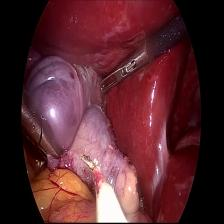Grasper: (97, 42, 154, 98), (20, 93, 61, 168)
Hook: (78, 152, 127, 224)
